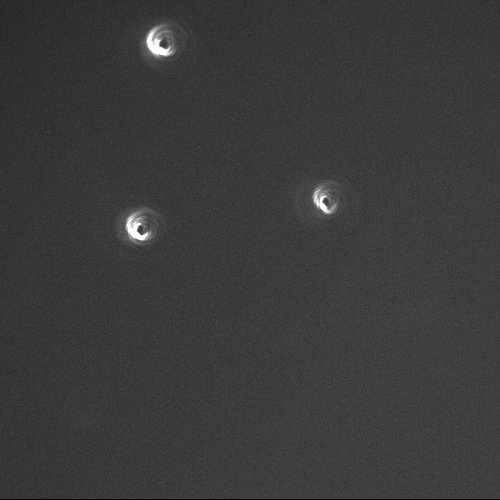spot: (137, 19, 197, 67), (301, 174, 359, 222), (113, 203, 167, 250)
